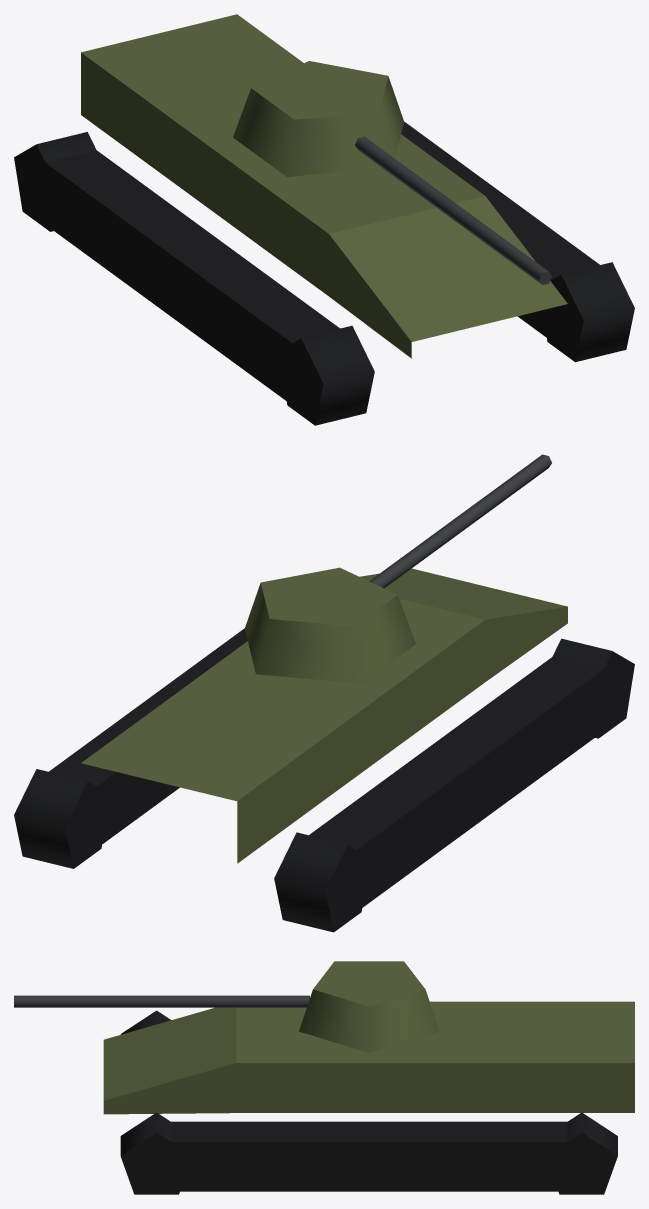
File: veh_ground_tank_light_a08_lod1.glb
3 renders of one model, top to bottom at view 1: azimuth 30°, elevation 25°; view 2: azimuth 150°, elevation 25°; view 3: azimuth 270°, elevation 25°, orthographic. The views are drawn at different scales.
Parts seen in each view (by area): view 1: body, track_r, turret, track_l; view 2: body, track_r, turret, track_l; view 3: body, track_l, turret, track_r.
Boxes of the visible parts, x1,y1,x2,y2 form: body: (81, 14, 567, 358); track_r: (14, 132, 374, 425); turret: (233, 61, 551, 284); track_l: (401, 121, 634, 362); body: (81, 568, 567, 863); track_r: (274, 638, 634, 932); turret: (244, 454, 551, 683); track_l: (14, 628, 247, 868); body: (103, 1001, 634, 1114); track_l: (120, 1112, 617, 1194); turret: (14, 961, 439, 1052); track_r: (120, 1010, 171, 1034).
Size of the model in its own units: 3.32 by 1.93 by 7.13.
